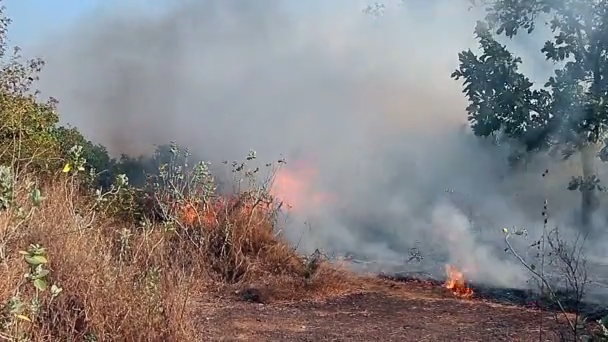fire: (445, 271, 464, 286), (63, 163, 69, 171)
